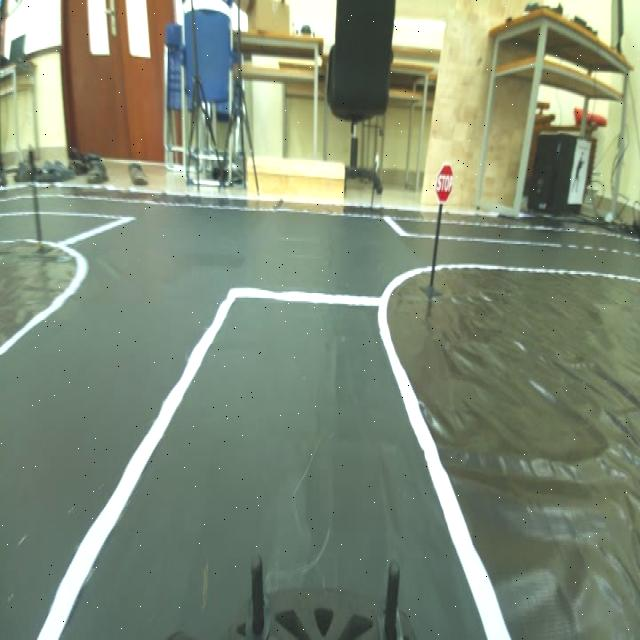stop: (428, 161, 462, 208)
